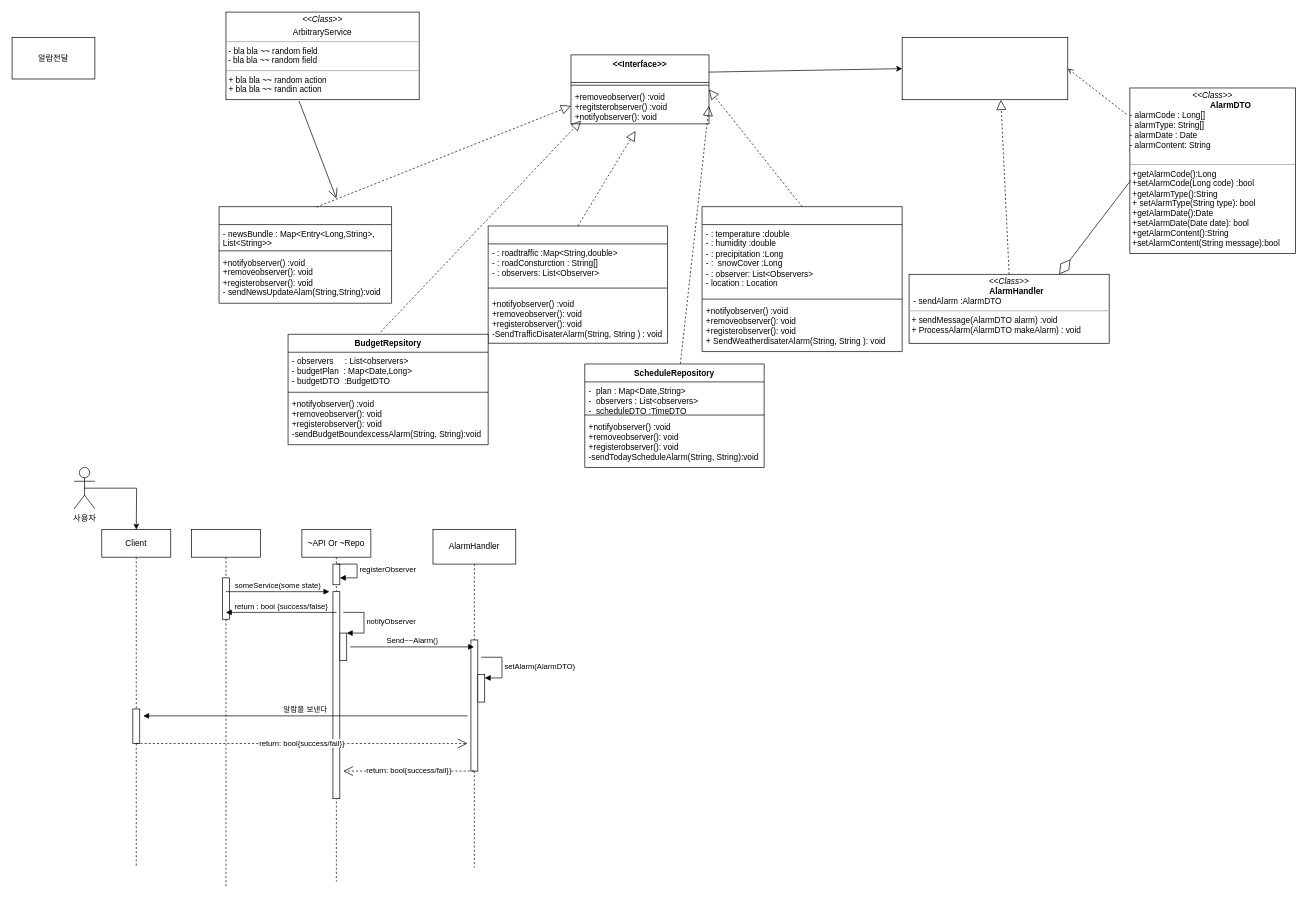
This 1308x900 diagram has some shape labels left out. Each missing label, with the box of its shape:
<<Interface>> Observer + sendMessage(AlarmDTO alarm) :void: (901, 37, 1068, 100)
NewsRepository: (218, 206, 392, 303)
TrafficAPI: (487, 225, 668, 343)
WeatherAPI: (701, 206, 902, 352)
~Service: (191, 529, 260, 888)
